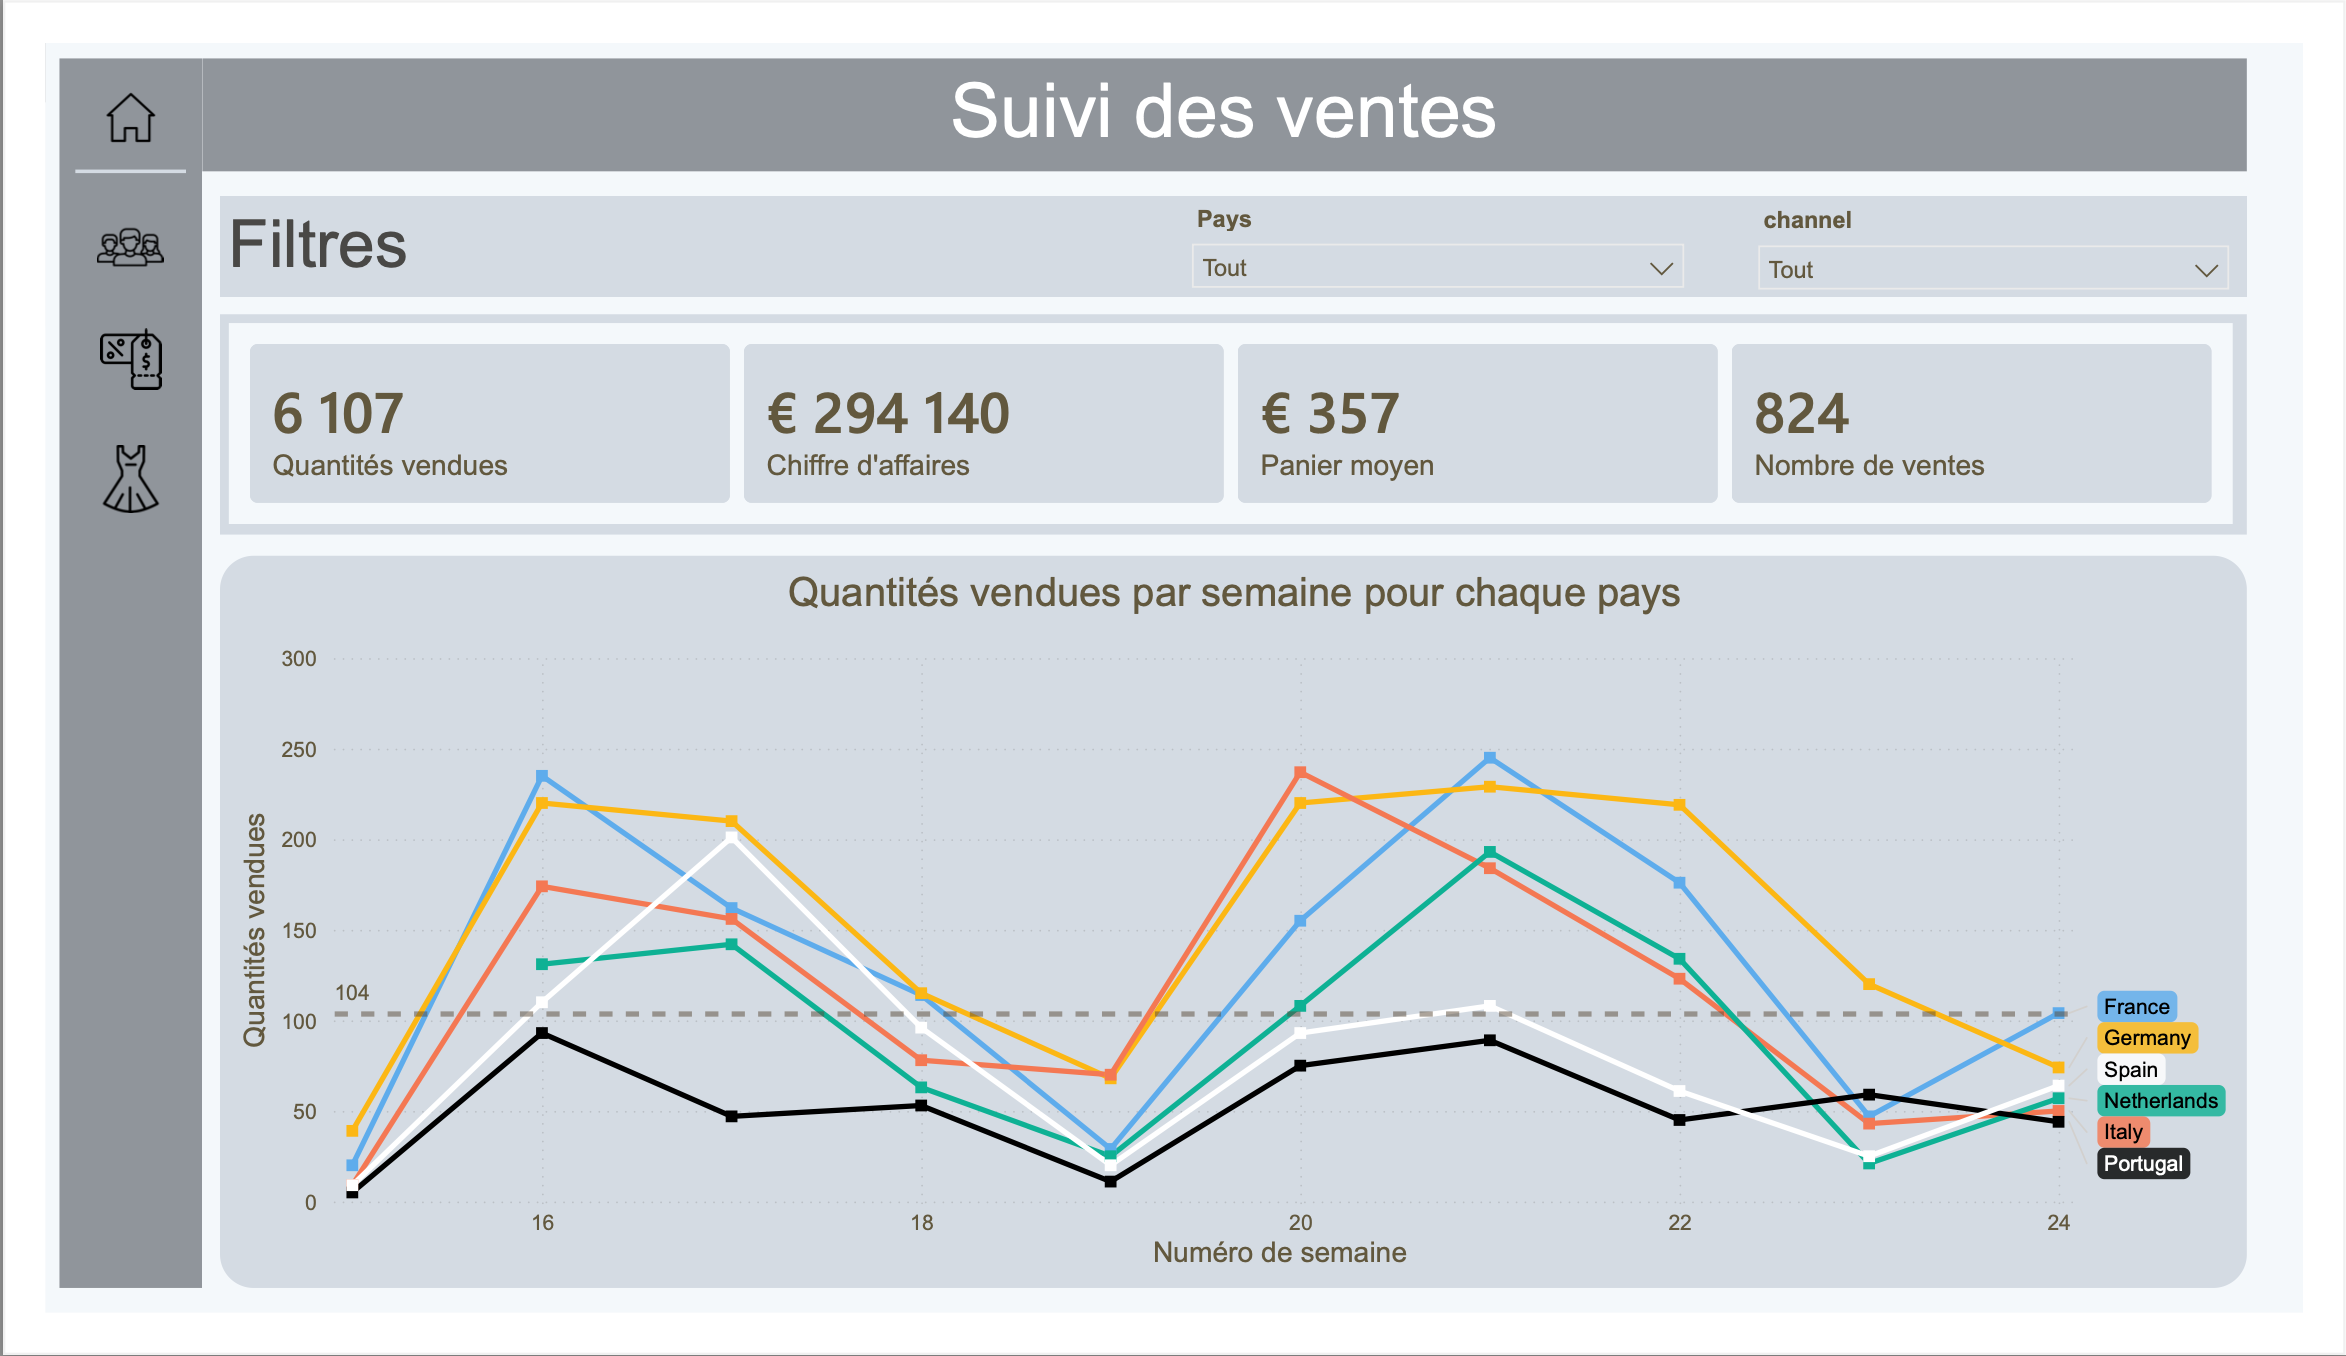

The dashboard page shown, as its layout file describes it:
{"tool":"powerbi","page":{"name":"Vue d'ensemble","canvas":[1280,720],"ordinal":0},"visuals":[{"type":"shape","box":[99.4,87,1148.3,57.2],"z":0},{"type":"cardVisual","fields":{"Data":["Mesures.Total_quantite","Mesures.Total_ca","Mesures.Panier_moyen","Mesures.Total_Nb_ventes"]},"box":[99,154.4,1149,124.7],"z":1000},{"type":"lineChart","title":"Quantités vendues par semaine pour chaque pays","fields":{"Category":["Date.Week"],"Series":["Ventes.country"],"Y":["Mesures.Total_quantite"]},"box":[99.2,290.8,1148.7,415.3],"z":2000},{"type":"slicer","fields":{"Values":["Ventes.country"]},"box":[640,87,299.5,57.2],"z":3000},{"type":"slicer","fields":{"Values":["Ventes_details.channel"]},"box":[960.6,88.2,287.1,55.9],"z":4000},{"type":"textbox","box":[89.5,8.7,1158.2,64.6],"z":5000},{"type":"shape","box":[7.8,8.8,81.7,697.4],"z":6000},{"type":"image","box":[33.1,20.4,31.1,44.7],"z":7000},{"type":"image","box":[29.2,86.6,37.9,57.4],"z":8000},{"type":"image","box":[29.2,162.4,37.9,35],"z":9000},{"type":"image","box":[25.3,227.6,46.7,39.9],"z":10000},{"type":"shape","box":[16.5,61.3,63.2,23.3],"z":11000},{"type":"textbox","box":[99.4,88.2,300.7,55.9],"z":12000}]}

Visuals, with their boxes on the page's 1280x720 design canvas (x1, y1, x2, y2). These are canvas units, not pixel positions in the 2346x1356 screenshot, which may show the page scaled, cropped or inside an application window:
shape: left=99, top=87, right=1248, bottom=144
cardVisual - Mesures.Total_quantite x Mesures.Total_ca: left=99, top=154, right=1248, bottom=279
"Quantités vendues par semaine pour chaque pays" lineChart: left=99, top=291, right=1248, bottom=706
slicer - Ventes.country: left=640, top=87, right=940, bottom=144
slicer - Ventes_details.channel: left=961, top=88, right=1248, bottom=144
textbox: left=90, top=9, right=1248, bottom=73
shape: left=8, top=9, right=90, bottom=706
image: left=33, top=20, right=64, bottom=65
image: left=29, top=87, right=67, bottom=144
image: left=29, top=162, right=67, bottom=197
image: left=25, top=228, right=72, bottom=268
shape: left=16, top=61, right=80, bottom=85
textbox: left=99, top=88, right=400, bottom=144
